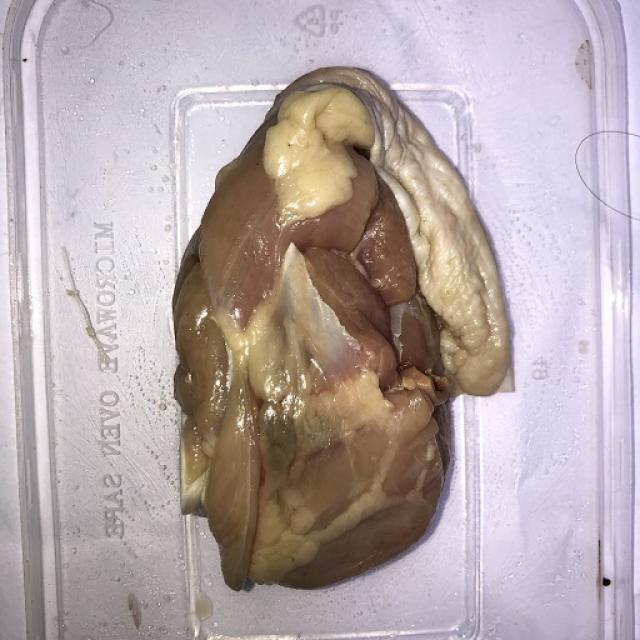chicken: (170, 64, 512, 592)
